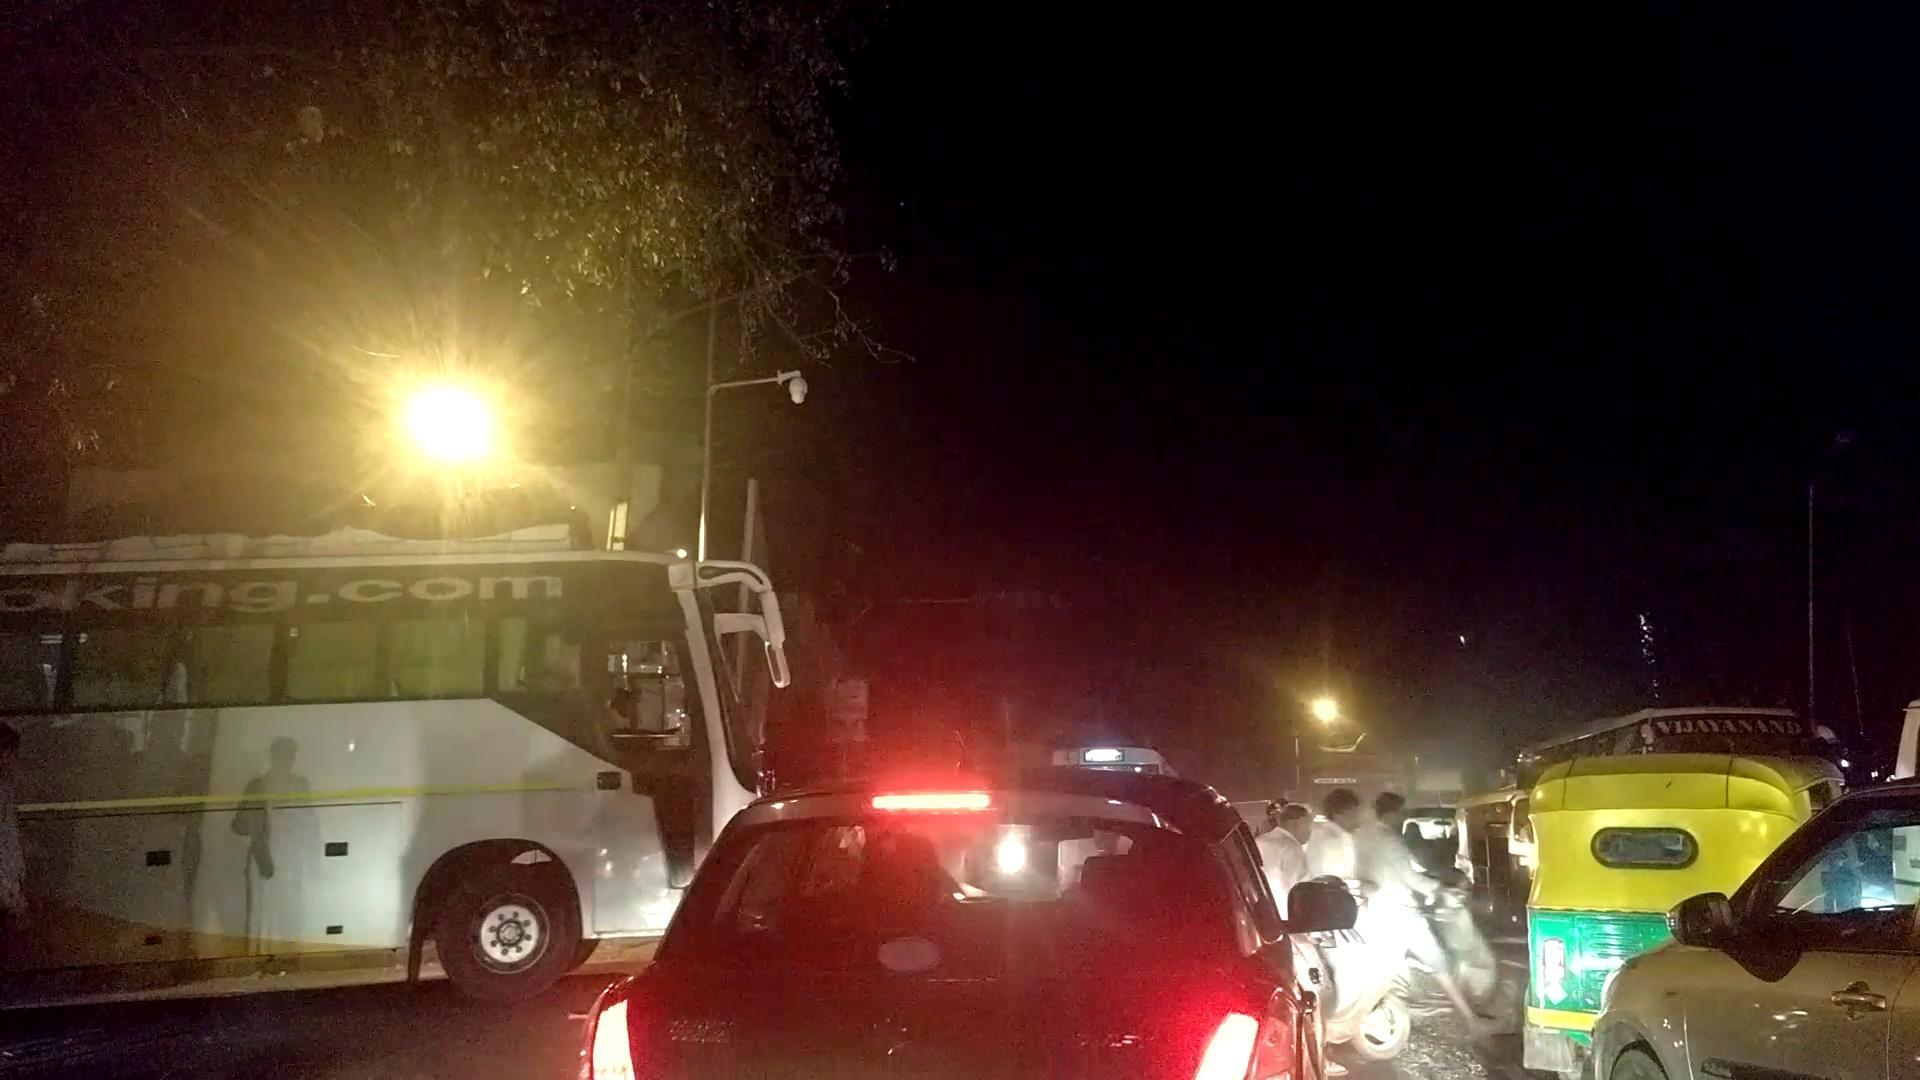on: (280, 282, 671, 715)
